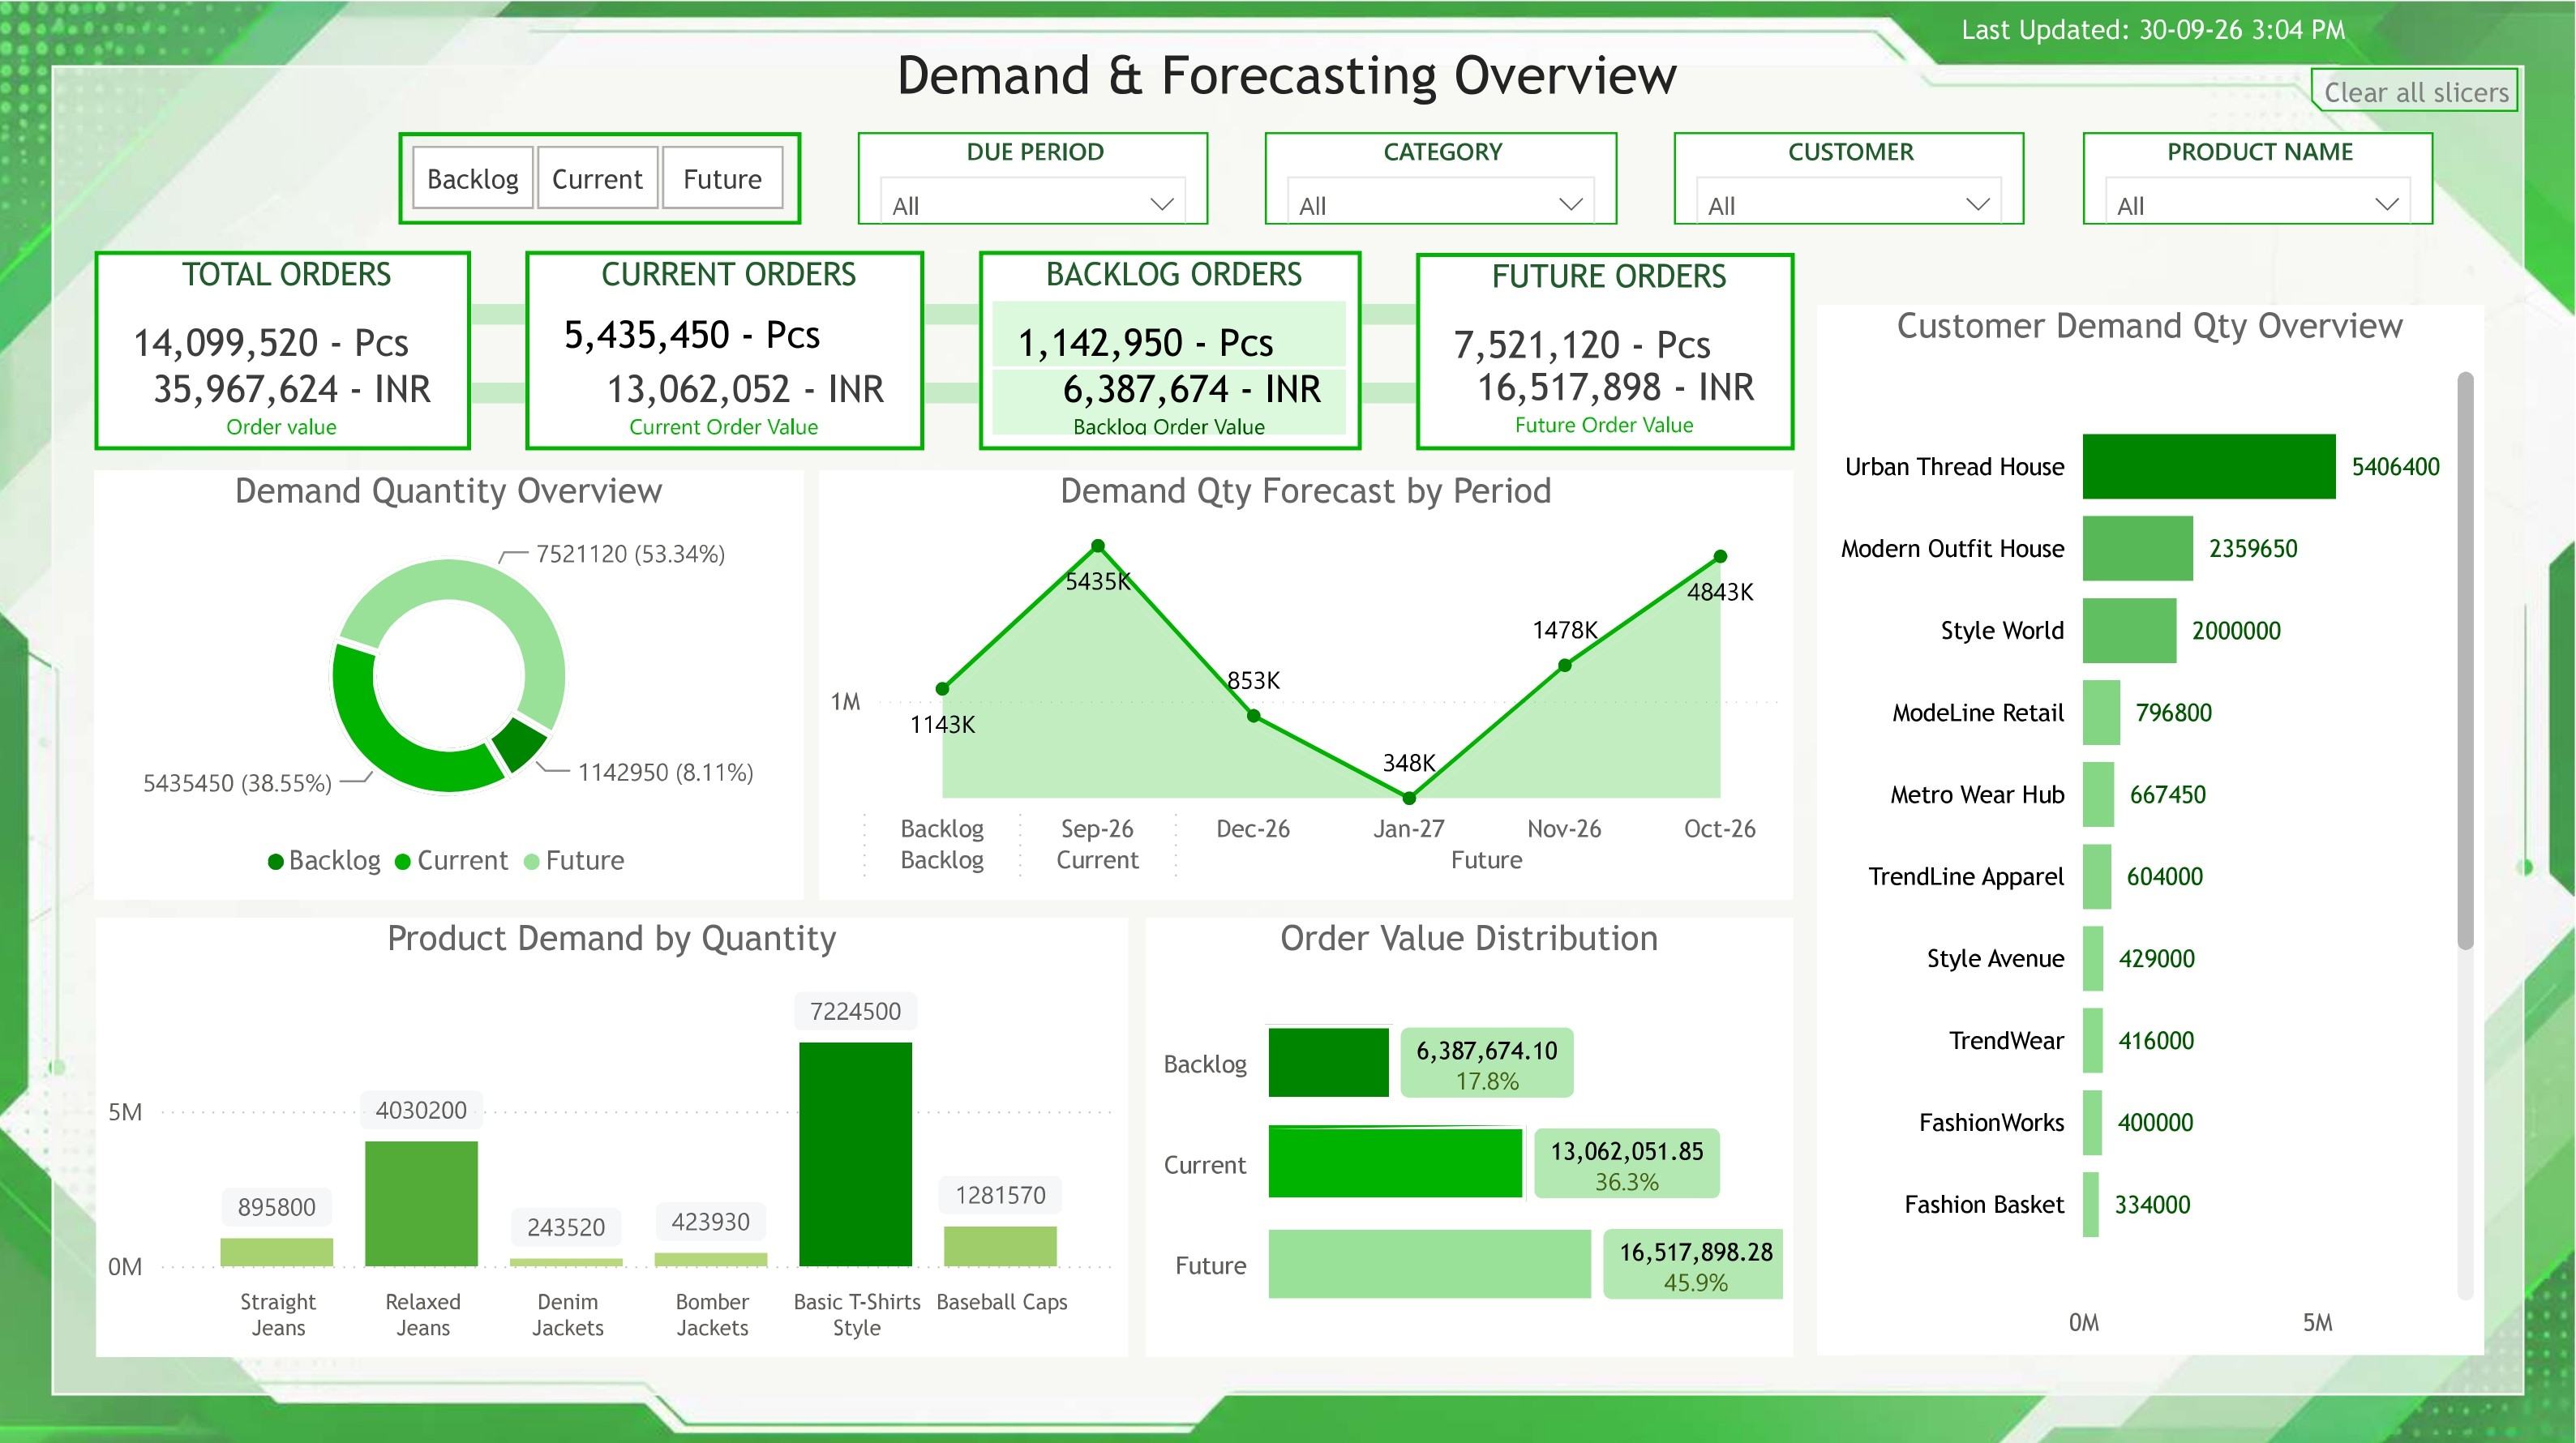

This screenshot's page, from the dashboard's own definition file:
{"tool":"powerbi","page":{"name":"ORDER LOAD OVERVIEW","canvas":[1280,720],"ordinal":0},"visuals":[{"type":"shape","title":"bg","box":[28,31.9,1226.5,660.4],"z":0},{"type":"shape","box":[54.2,150.3,836.7,11.1],"z":1000},{"type":"shape","box":[57.9,176.2,833,37],"z":2000},{"type":"textbox","box":[322.5,16.1,636.4,76.9],"z":3000},{"type":"advancedSlicerVisual","fields":{"Values":["Sales Order Report.SalesType"]},"box":[199.9,65.1,200.2,45.5],"z":4000},{"type":"slicer","title":"CUSTOMER","fields":{"Values":["Sales Order Report.CardName"]},"box":[832.8,65.1,174.4,45.5],"z":6000},{"type":"slicer","title":"CATEGORY","fields":{"Values":["Sales Order Report.ProductCategory"]},"box":[630.4,65.1,174.4,45.5],"z":7000},{"type":"slicer","title":"PRODUCT NAME","fields":{"Values":["Sales Order Report.ProductName"]},"box":[1035.5,65.1,174.4,45.5],"z":8000},{"type":"slicer","title":"DUE PERIOD","fields":{"Values":["Sales Order Report.Year","Sales Order Report.Month YEar"]},"box":[428.1,65.1,174.4,45.5],"z":9000},{"type":"donutChart","title":"Demand Quantity Overview","fields":{"Category":["Sales Order Report.Type V","Sales Order Report.Type"],"Y":["Sales Order Report.Order Quantity"]},"box":[49.5,232.8,351.1,213.5],"z":10000},{"type":"lineClusteredColumnComboChart","title":"Product Demand by Quantity","fields":{"Category":["Sales Order Report.ProductName"],"Y":["Sales Order Report.Order Quantity"]},"box":[49.7,455.1,512.5,218],"z":11000},{"type":"clusteredBarChart","title":"Customer Demand Qty Overview","fields":{"Category":["Sales Order Report.CardName"],"Y":["Sales Order Report.Order Quantity"]},"box":[903.6,150.8,331.8,521.2],"z":12000},{"type":"areaChart","title":"Demand Qty Forecast by Period","fields":{"Category":["Sales Order Report.Type V","Sales Order Report.Type"],"Y":["Sales Order Report.Order Quantity"]},"box":[409.2,233.3,483.2,212.9],"z":13000},{"type":"clusteredBarChart","title":"Order Value Distribution","fields":{"Category":["Sales Order Report.Type V","Sales Order Report.Type"],"Y":["Sales Order Report.Order Value"]},"box":[571.2,455.1,321.3,218],"z":14000},{"type":"cardVisual","title":"TOTAL ORDERS","fields":{"Data":["Sales Order Report.SaleOrderQty","Sales Order Report.SaleOrdervalue"]},"box":[49.5,124.3,187,98.9],"z":15000},{"type":"cardVisual","title":"CURRENT ORDERS","fields":{"Data":["Sales Order Report.Current Order Qty","Sales Order Report.Current Order Value"]},"box":[263.2,124.2,197.9,98.9],"z":16000},{"type":"cardVisual","title":"BACKLOG ORDERS","fields":{"Data":["Sales Order Report.Backlog Order Qty","Sales Order Report.Backlog Order Value"]},"box":[488.5,124.4,189.2,98.5],"z":17000},{"type":"cardVisual","title":"FUTURE ORDERS","fields":{"Data":["Sales Order Report.Future Order Qty","Sales Order Report.Future Order Value"]},"box":[705.1,124.5,187.9,98.3],"z":18000},{"type":"actionButton","box":[1148.7,33.1,103.3,21.7],"z":19000},{"type":"card","fields":{"Values":["Refresh_Date.Refresh_Updated"]},"box":[961.3,0,219.3,31.9],"z":20000}]}

Visuals, with their boxes in screenshot pixels (x1, y1, x2, y2), scaled from the page's 1280x720 canvas onto the 2576x1443 screenshot:
"bg" shape: (56,64,2525,1388)
shape: (109,302,1793,323)
shape: (117,353,1793,427)
textbox: (649,32,1930,186)
advancedSlicerVisual - Sales Order Report.SalesType: (402,131,805,221)
"CUSTOMER" slicer: (1676,131,2027,221)
"CATEGORY" slicer: (1269,131,1620,221)
"PRODUCT NAME" slicer: (2084,131,2435,221)
"DUE PERIOD" slicer: (862,131,1212,221)
"Demand Quantity Overview" donutChart: (100,467,806,894)
"Product Demand by Quantity" lineClusteredColumnComboChart: (100,912,1131,1349)
"Customer Demand Qty Overview" clusteredBarChart: (1819,302,2486,1347)
"Demand Qty Forecast by Period" areaChart: (824,468,1796,894)
"Order Value Distribution" clusteredBarChart: (1150,912,1796,1349)
"TOTAL ORDERS" cardVisual: (100,249,476,447)
"CURRENT ORDERS" cardVisual: (529,249,928,447)
"BACKLOG ORDERS" cardVisual: (983,250,1364,447)
"FUTURE ORDERS" cardVisual: (1419,250,1797,447)
actionButton: (2312,66,2520,109)
card - Refresh_Date.Refresh_Updated: (1935,0,2376,64)
